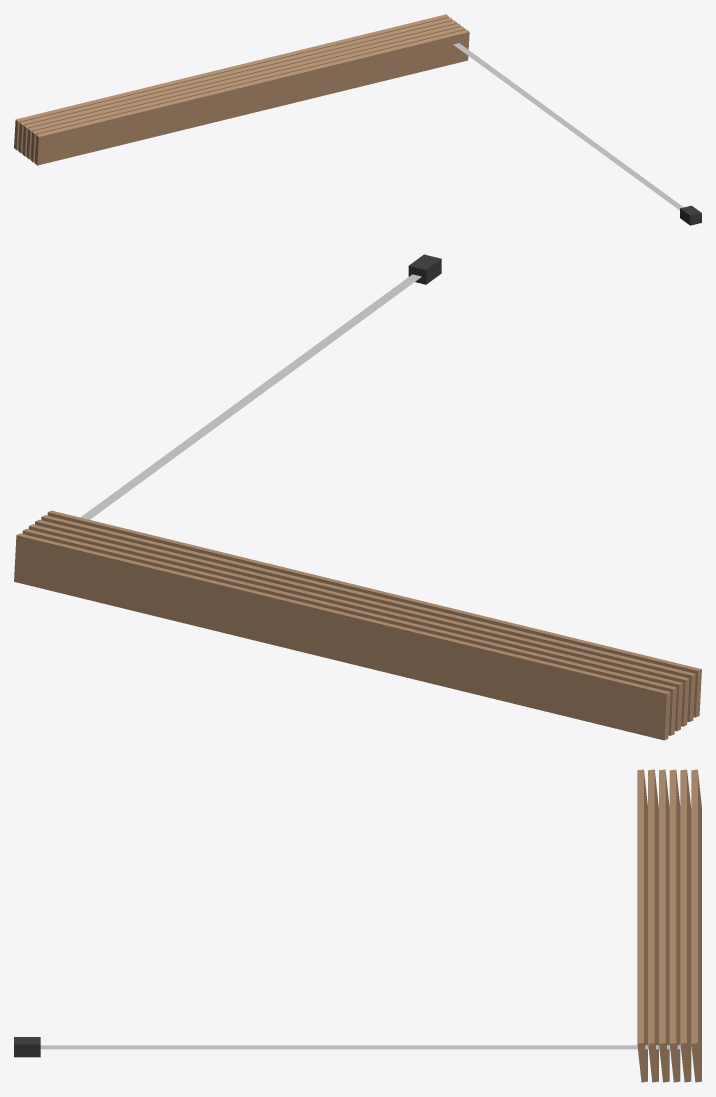
The model's file is Door_Ac_B.glb.
3 views of the same model, one above another, from view 1: azimuth 30°, elevation 25°; view 2: azimuth 150°, elevation 25°; view 3: azimuth 270°, elevation 25° (orthographic). The views are drawn at different scales.
Visible parts, largest first — view 1: Door Ac B; view 2: Door Ac B; view 3: Door Ac B.
Part boxes in pixels (x1,y1,x2,y2): Door Ac B: [14, 14, 701, 225]; Door Ac B: [14, 254, 701, 740]; Door Ac B: [14, 769, 701, 1082].
Bounding box in the file's own units: 0.6773 × 0.0456 × 0.7199.
Materials: 1 (1 with a texture image).
